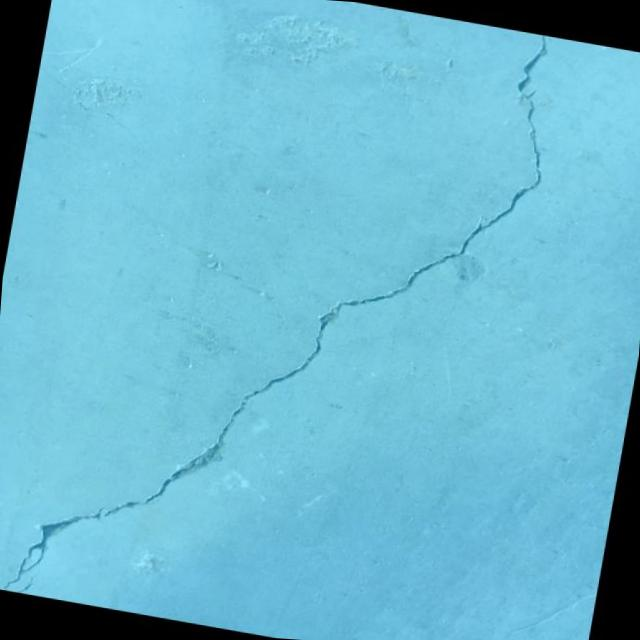crack: (100, 0, 569, 587), (2, 490, 107, 606), (16, 572, 36, 594)
